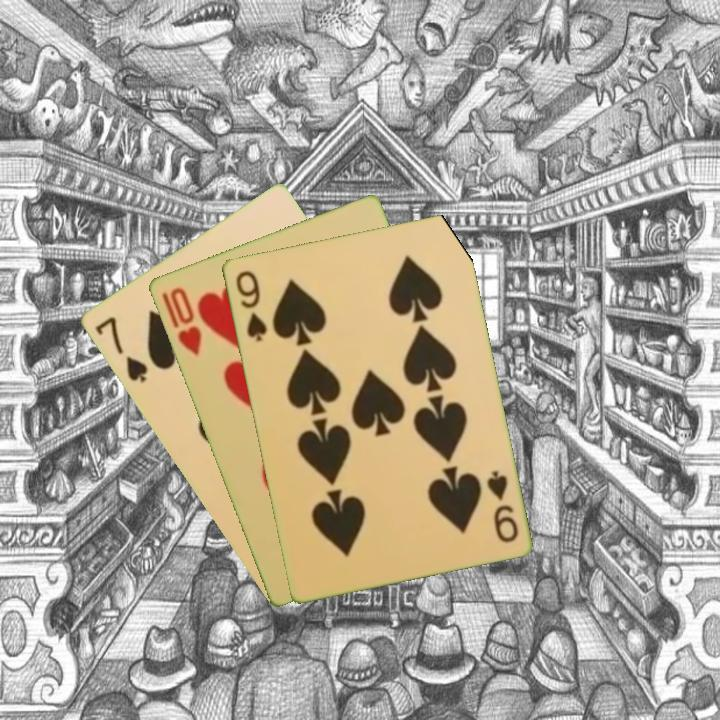10h: (166, 283, 204, 359)
7s: (91, 313, 150, 385)
9s: (482, 467, 521, 546), (231, 266, 269, 344)
